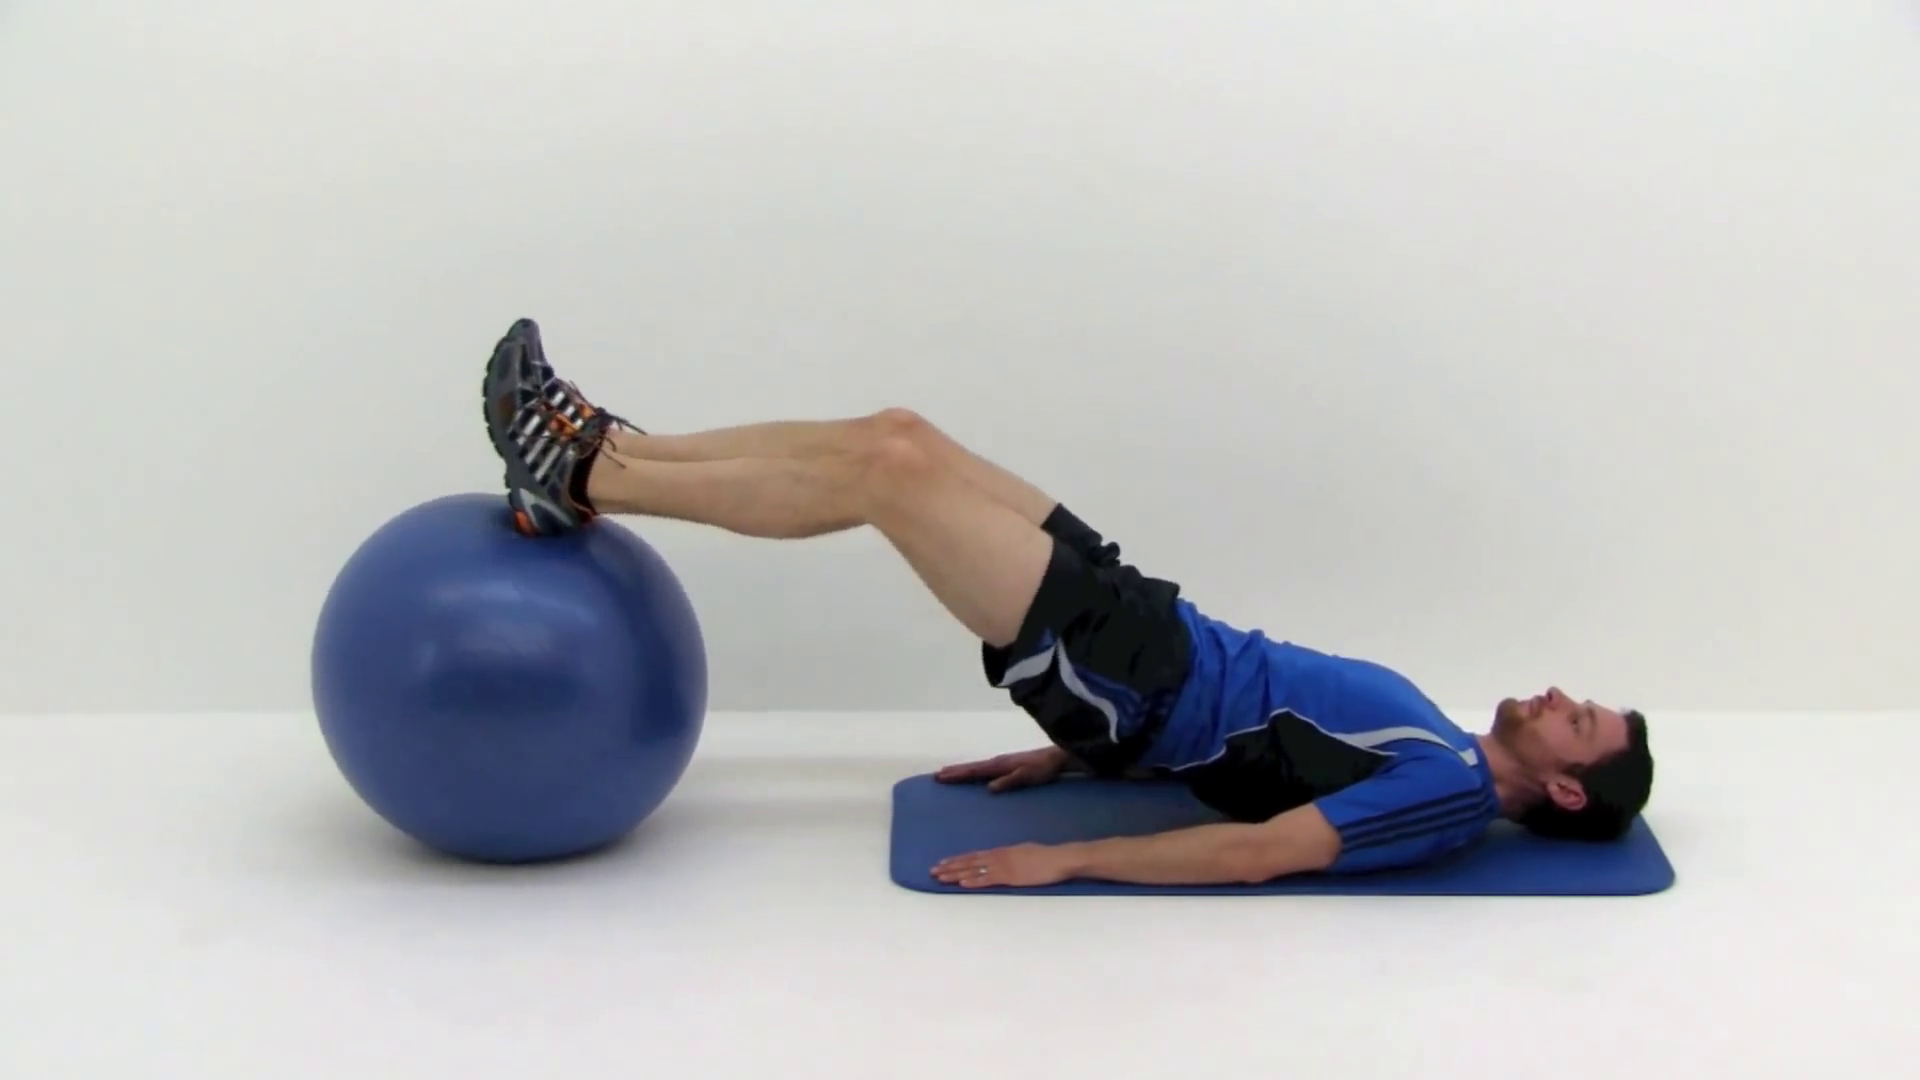yogaball: (301, 484, 735, 891)
